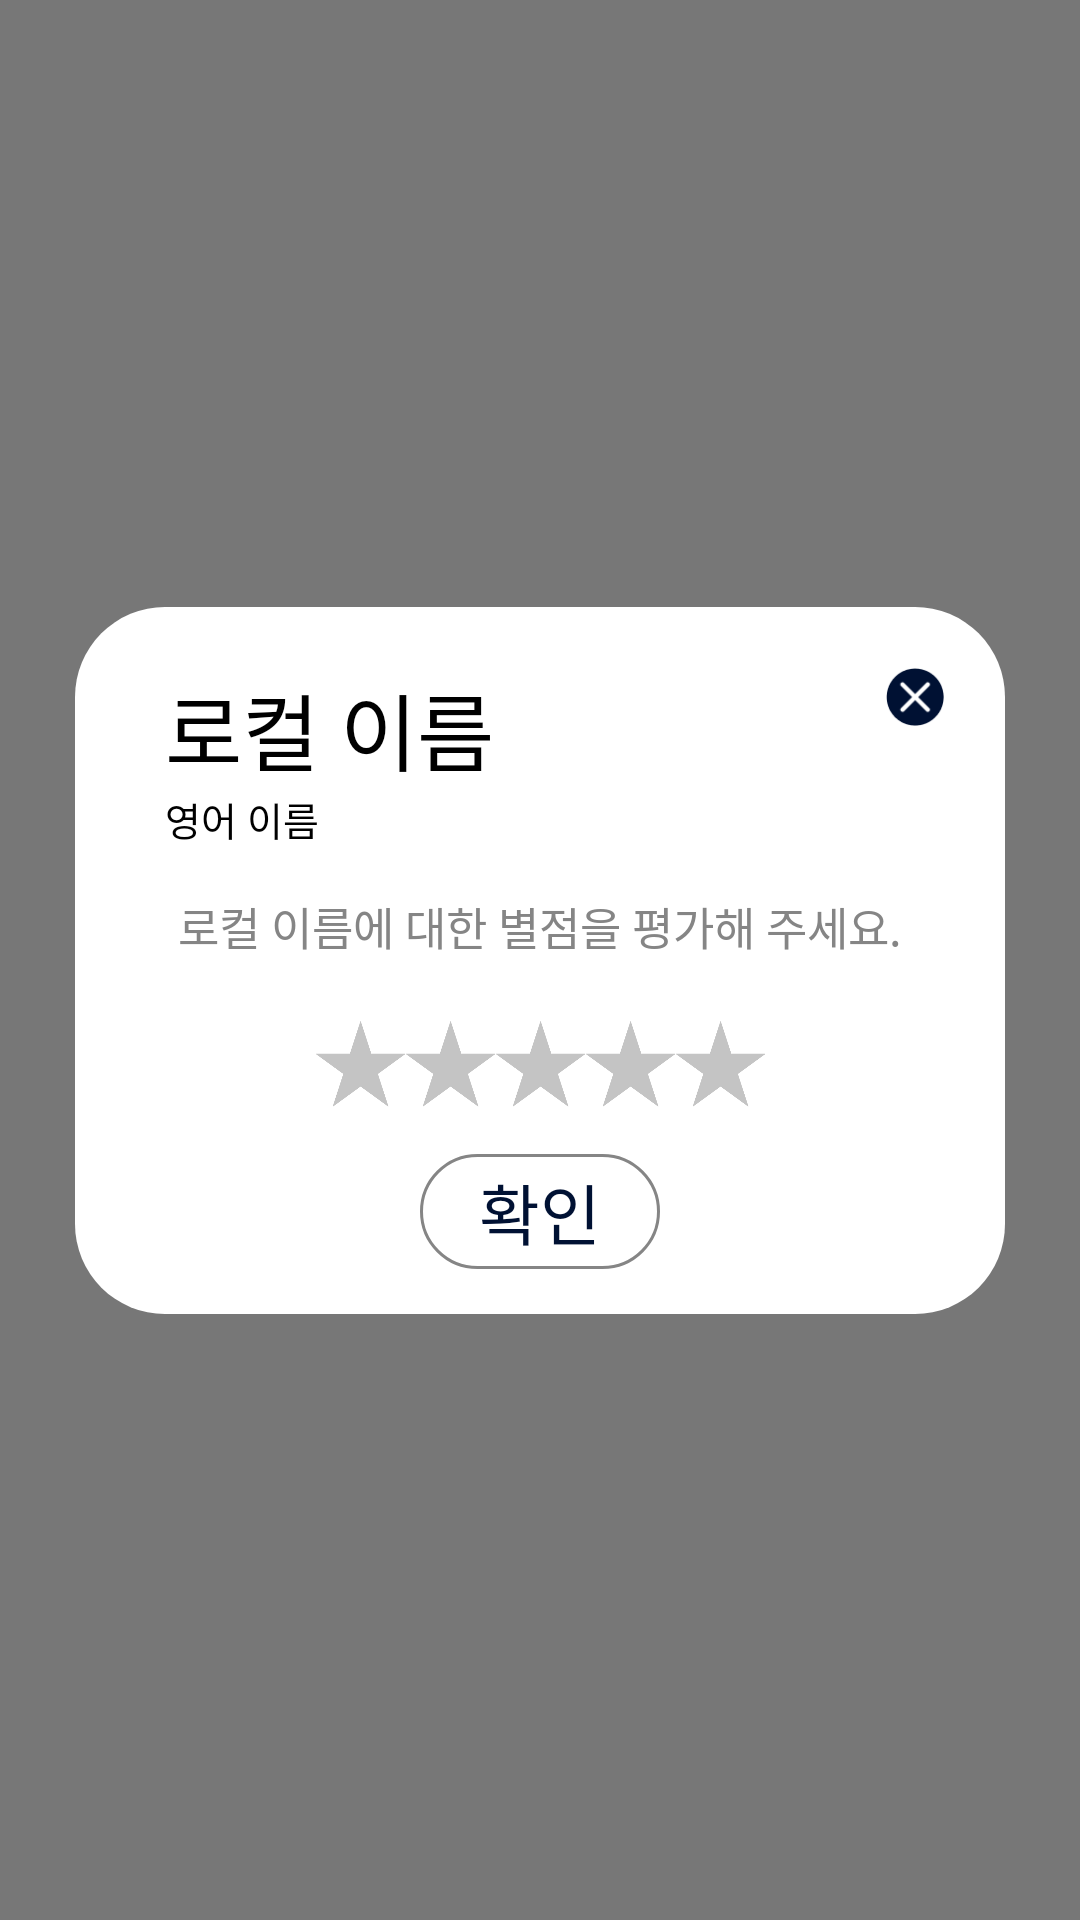

Icon bounding boxes for this 1080px x 1920px phone screenshot, format [left=x1, top=y1, right=x2, bottom=y2]:
filter close: [left=886, top=668, right=944, bottom=726]
star off: [left=316, top=1021, right=405, bottom=1106], [left=406, top=1021, right=495, bottom=1106], [left=496, top=1021, right=585, bottom=1106], [left=586, top=1021, right=675, bottom=1106], [left=676, top=1021, right=765, bottom=1106]
